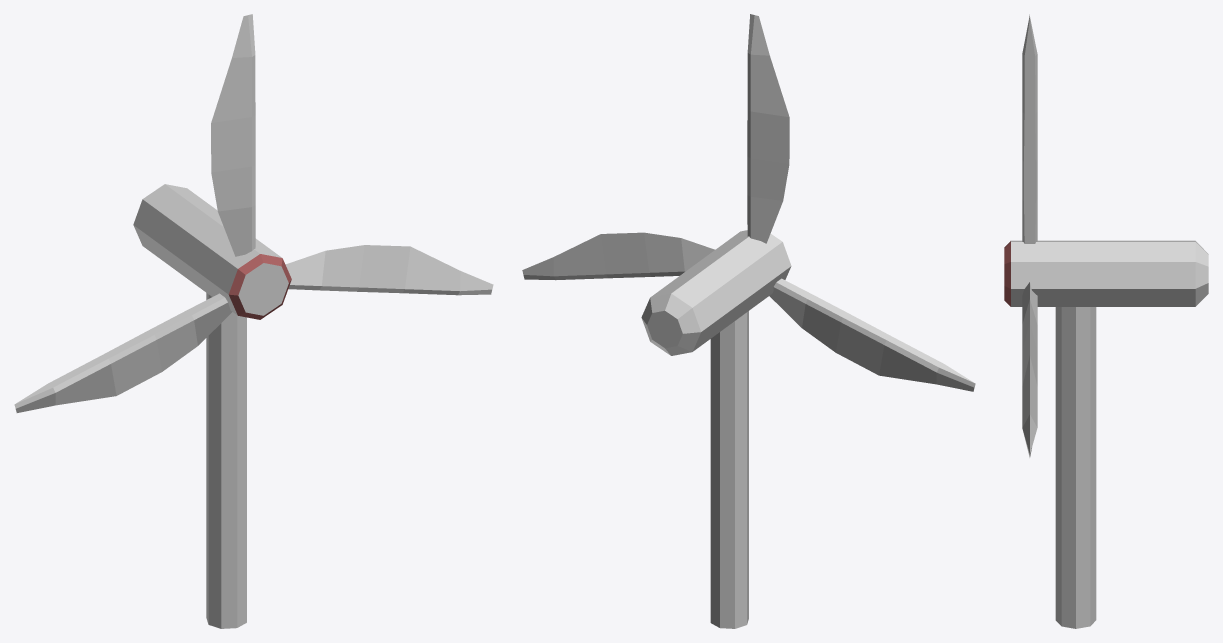
Rendered from Windmolen.fbx.
The picture shows the model from 3 angles, left to right: view 1: azimuth 30°, elevation 25°; view 2: azimuth 150°, elevation 25°; view 3: azimuth 270°, elevation 25°; orthographic projection. The views are drawn at different scales.
Visible parts, largest first — view 1: Windmolen; view 2: Windmolen; view 3: Windmolen.
Part boxes in pixels (x1,y1,x2,y2): Windmolen: (14,14,493,628); Windmolen: (522,14,975,628); Windmolen: (1004,14,1208,628).
Size of the model in its own units: 1.55 by 1.93 by 0.5919.
